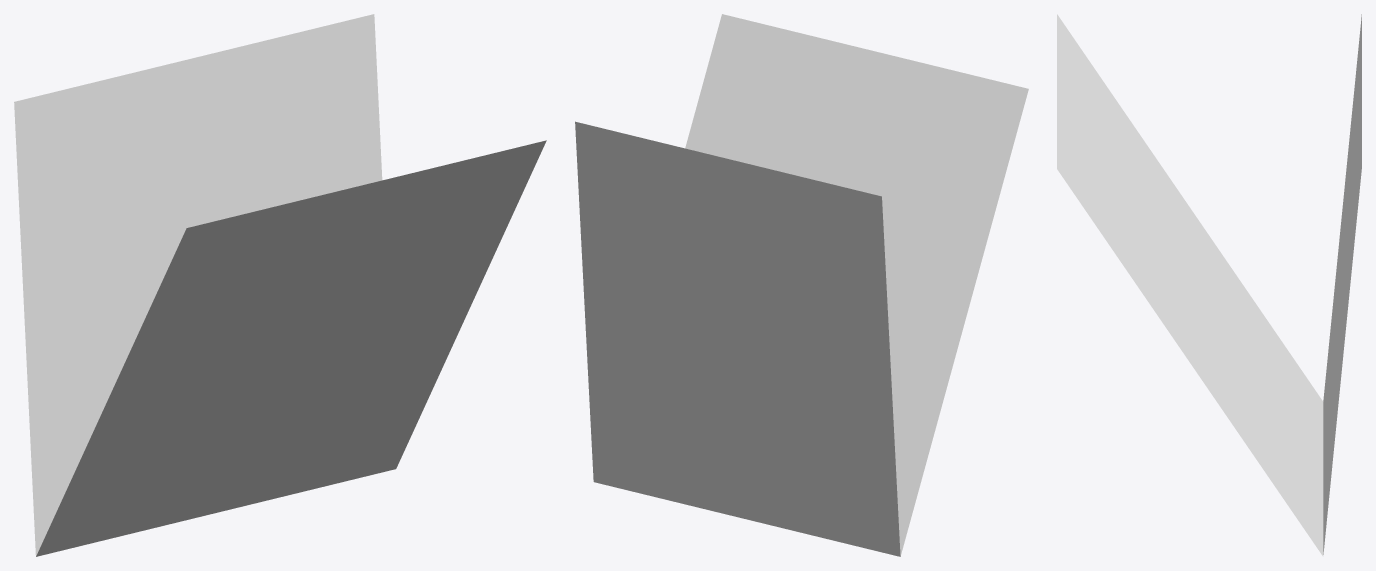
File: Note_Separated.glb
The picture shows the model from 3 angles, left to right: view 1: azimuth 30°, elevation 25°; view 2: azimuth 150°, elevation 25°; view 3: azimuth 270°, elevation 25°; orthographic projection. The views are drawn at different scales.
Parts seen in each view (by area): view 1: PlaneLeft, PlaneRight; view 2: PlaneRight, PlaneLeft; view 3: PlaneLeft, PlaneRight.
Boxes of the visible parts, <box> form: PlaneLeft: <box>36,140,546,556</box>; PlaneRight: <box>14,14,382,555</box>; PlaneRight: <box>575,121,900,556</box>; PlaneLeft: <box>685,14,1028,555</box>; PlaneLeft: <box>1057,14,1323,556</box>; PlaneRight: <box>1323,14,1361,554</box>.
Size of the model in its own units: 0.4996 by 0.5819 by 0.4144.
Materials: 1 (1 with a texture image).
